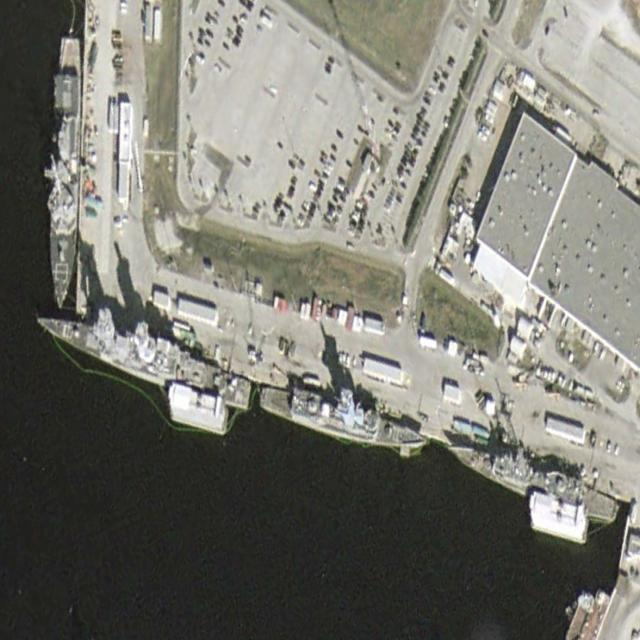Frigate: (33, 286, 256, 415), (443, 419, 625, 534), (257, 363, 431, 465), (40, 36, 83, 309)
